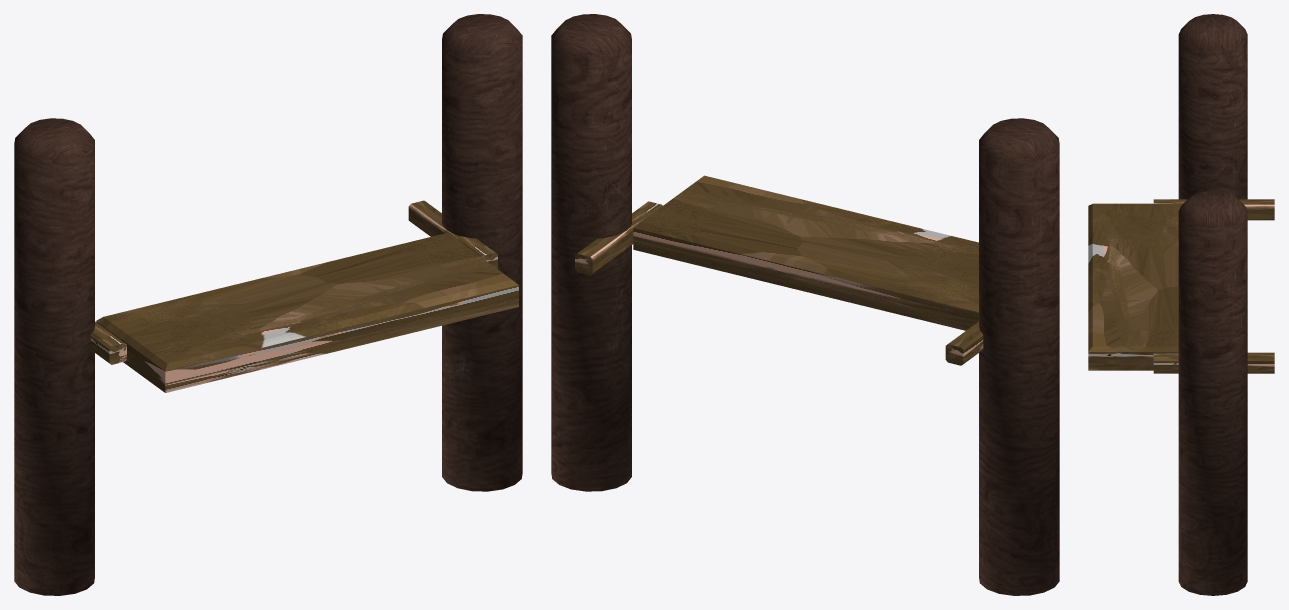
File: NewBridgeUnit.fbx
3 views of the same model, side by side, from view 1: azimuth 30°, elevation 25°; view 2: azimuth 150°, elevation 25°; view 3: azimuth 270°, elevation 25° (orthographic). The views are drawn at different scales.
Visible parts, largest first — view 1: BridgeUnit; view 2: BridgeUnit; view 3: BridgeUnit.
Boxes of the visible parts, x1,y1,x2,y2 form: BridgeUnit: (14,14,522,595); BridgeUnit: (551,14,1059,595); BridgeUnit: (1088,14,1274,595).
Bounding box in the file's own units: 637 × 547 × 244.
